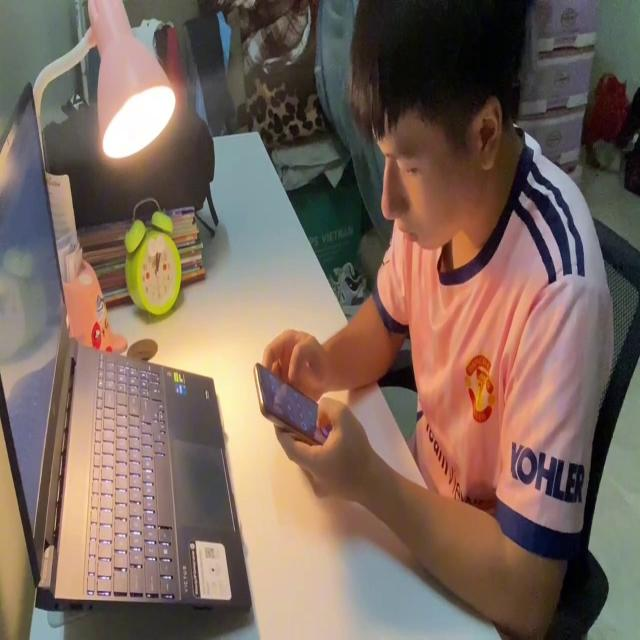laptop: (0, 79, 254, 621)
phone: (253, 352, 336, 448)
student: (261, 0, 612, 640)
